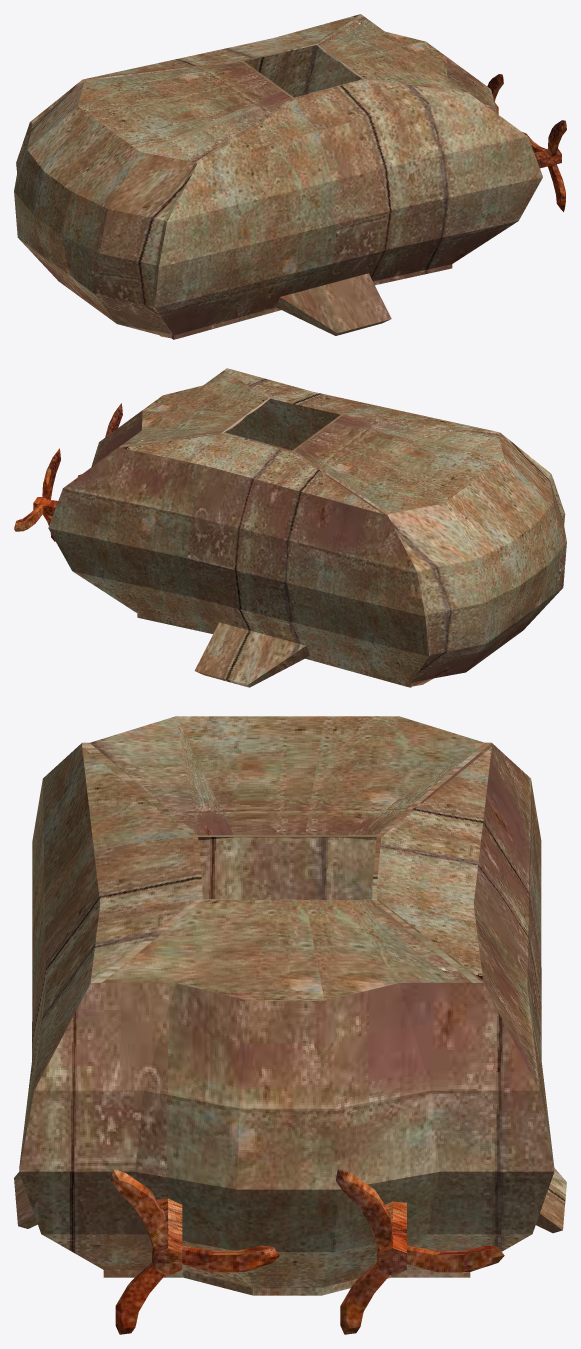
The model's file is submarine.glb.
3 renders of one model, top to bottom at view 1: azimuth 30°, elevation 25°; view 2: azimuth 150°, elevation 25°; view 3: azimuth 270°, elevation 25°, orthographic. The views are drawn at different scales.
Visible parts, largest first — view 1: ыгиьфкшту; view 2: ыгиьфкшту; view 3: ыгиьфкшту.
Part boxes in pixels (box(x1,y1,x2,y2)): ыгиьфкшту: box(14, 14, 566, 339); ыгиьфкшту: box(14, 368, 566, 687); ыгиьфкшту: box(14, 716, 566, 1334).
Bounding box in the file's own units: 15.66 × 6.35 × 8.81.
1 material, 1 textured.
